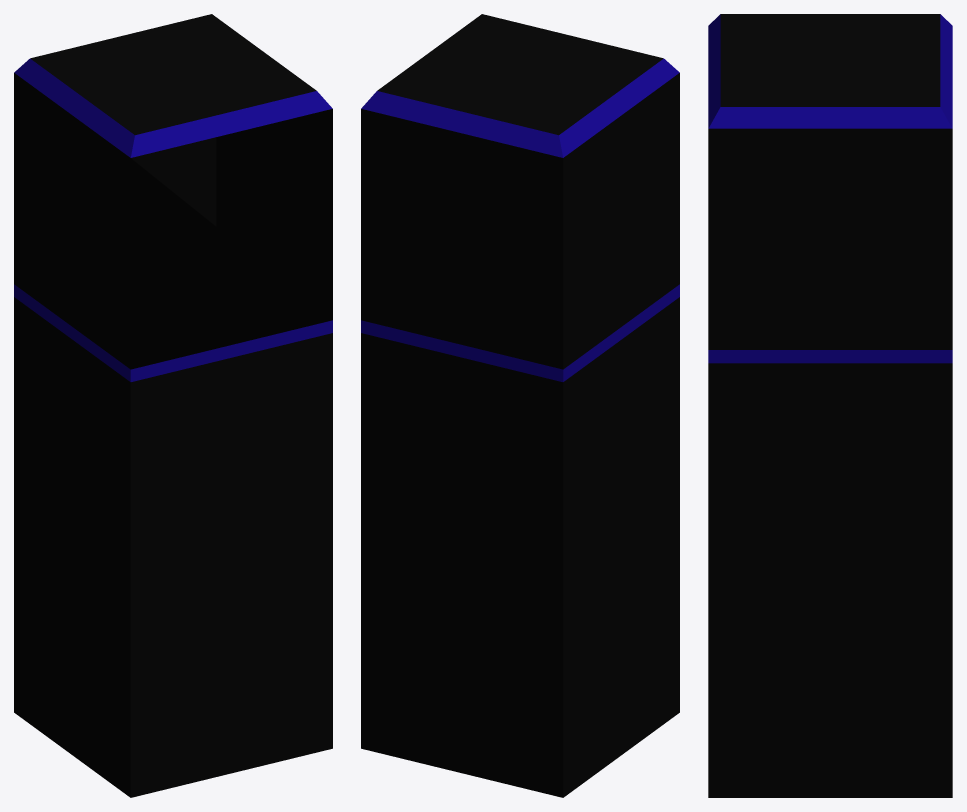
3 renders of one model, left to right at view 1: azimuth 30°, elevation 25°; view 2: azimuth 150°, elevation 25°; view 3: azimuth 270°, elevation 25°, orthographic. The views are drawn at different scales.
Parts seen in each view (by area): view 1: Cube; view 2: Cube; view 3: Cube.
Boxes of the visible parts, left/top/right/bottom form: Cube: left=14, top=14, right=332, bottom=797; Cube: left=361, top=14, right=679, bottom=797; Cube: left=708, top=14, right=952, bottom=797.
Bounding box in the file's own units: 200 × 620 × 200.
